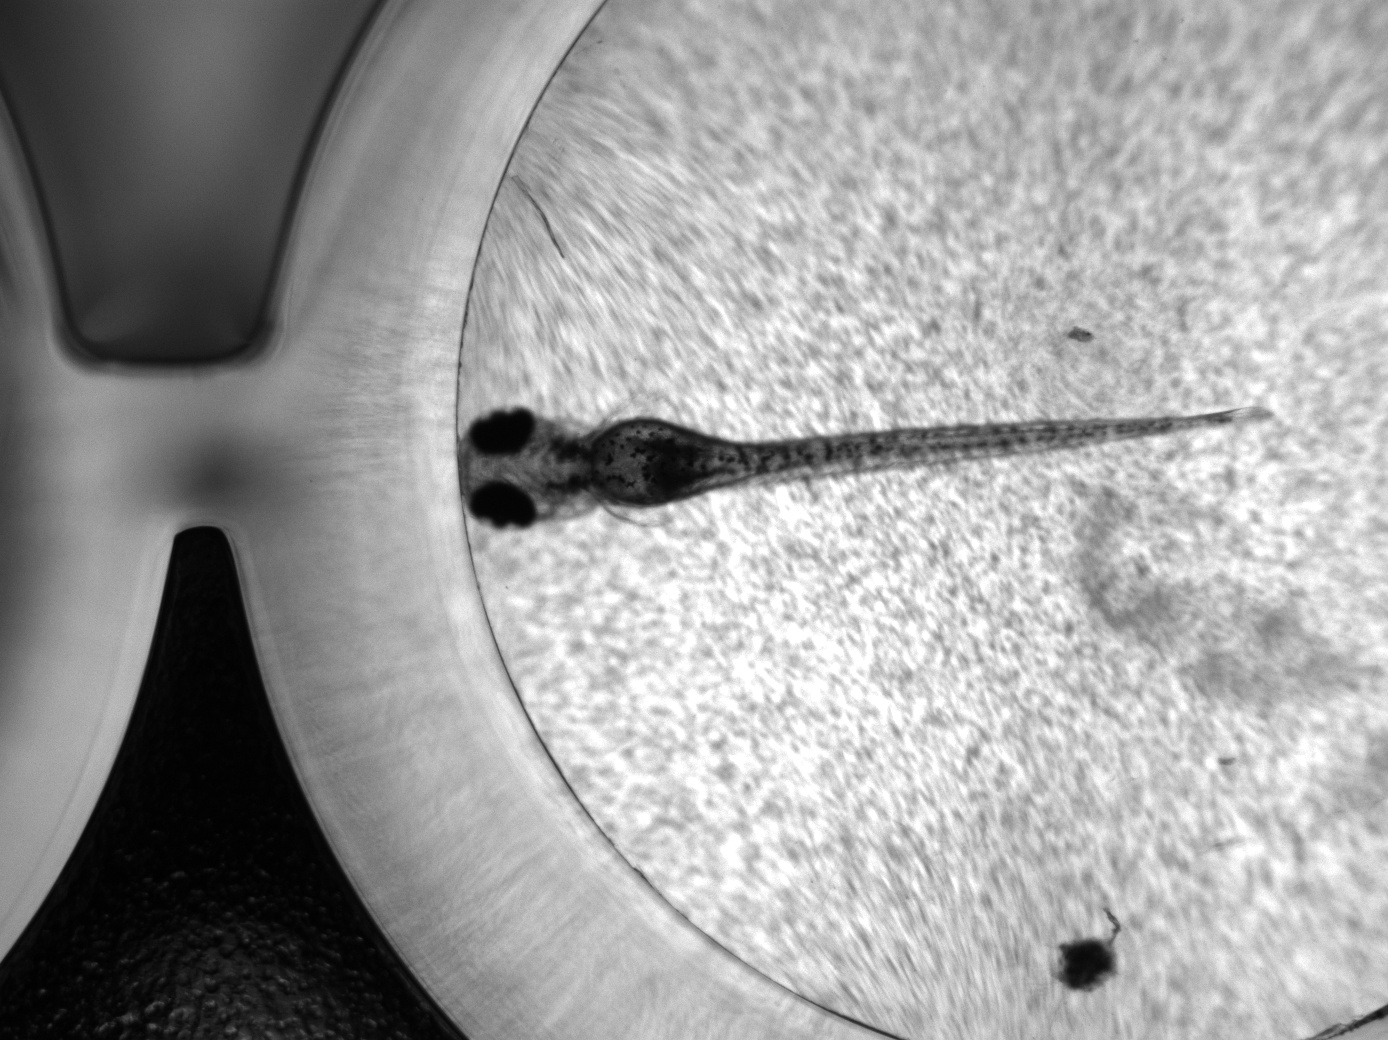embryo: (456, 406, 1281, 531)
eye: (468, 480, 539, 531), (467, 407, 538, 458)
yolksac: (589, 413, 726, 511)
